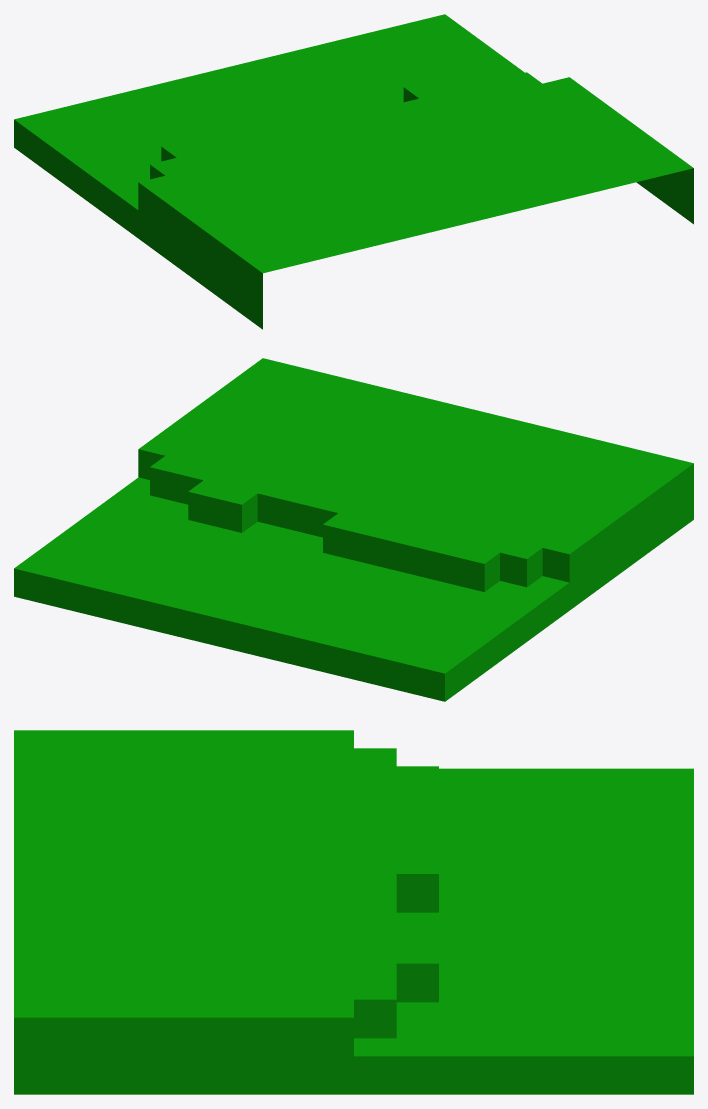
The model's file is Straight10.fbx.
3 views of the same model, one above another, from view 1: azimuth 30°, elevation 25°; view 2: azimuth 150°, elevation 25°; view 3: azimuth 270°, elevation 25° (orthographic). The views are drawn at different scales.
Parts seen in each view (by area): view 1: Matrix; view 2: Matrix; view 3: Matrix.
Boxes of the visible parts, left/top/right/bottom form: Matrix: left=14, top=14, right=693, bottom=329; Matrix: left=14, top=358, right=693, bottom=701; Matrix: left=14, top=730, right=693, bottom=1094.
Bounding box in the file's own units: 16 × 2 × 16.
Materials: 1 (1 with a texture image).
